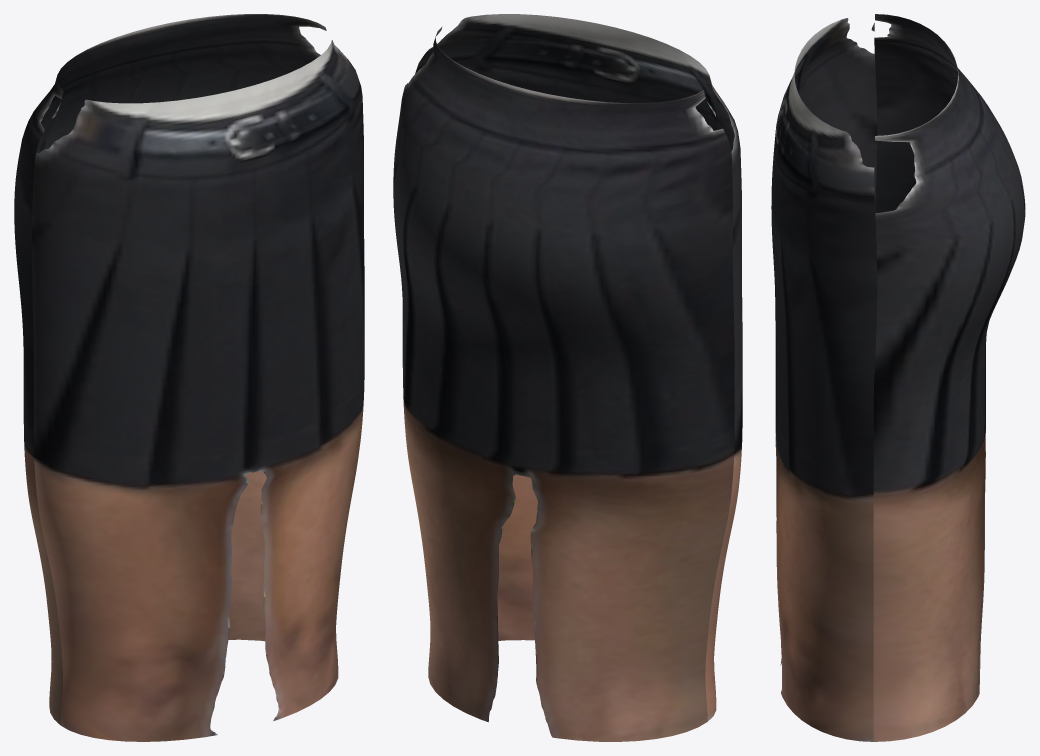
File: prod-ae-noir-pleated-mini.glb
3 renders of one model, left to right at view 1: azimuth 30°, elevation 25°; view 2: azimuth 150°, elevation 25°; view 3: azimuth 270°, elevation 25°, orthographic. The views are drawn at different scales.
Parts seen in each view (by area): view 1: prod-ae-noir-pleated-mini; view 2: prod-ae-noir-pleated-mini; view 3: prod-ae-noir-pleated-mini.
Boxes of the visible parts, bbox=[...] form: prod-ae-noir-pleated-mini: bbox=[14, 14, 364, 741]; prod-ae-noir-pleated-mini: bbox=[393, 14, 742, 741]; prod-ae-noir-pleated-mini: bbox=[771, 14, 1025, 741].
Bounding box in the file's own units: 0.2918 × 0.5467 × 0.2083.
Materials: 1 (1 with a texture image).
